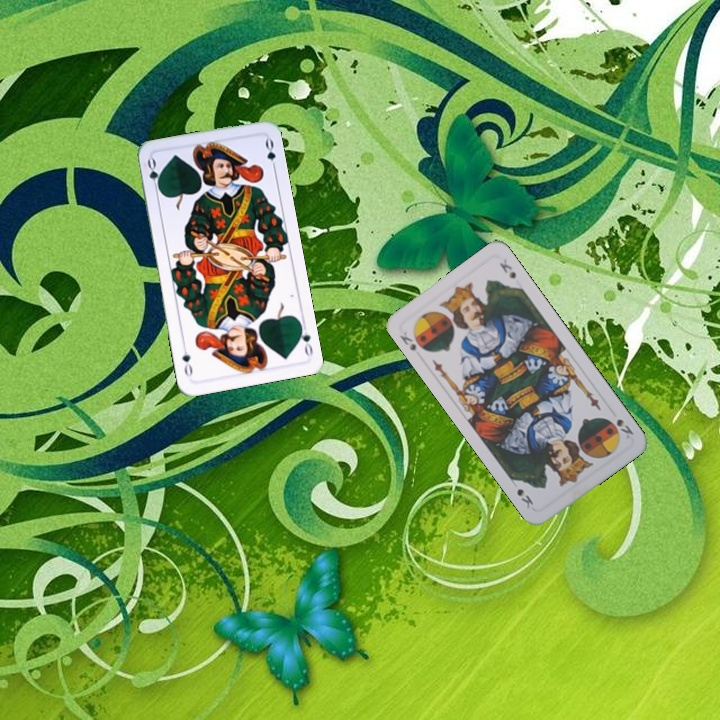GO: (143, 154, 164, 195), (295, 318, 315, 359)
SK: (612, 415, 636, 441), (396, 328, 419, 354)
